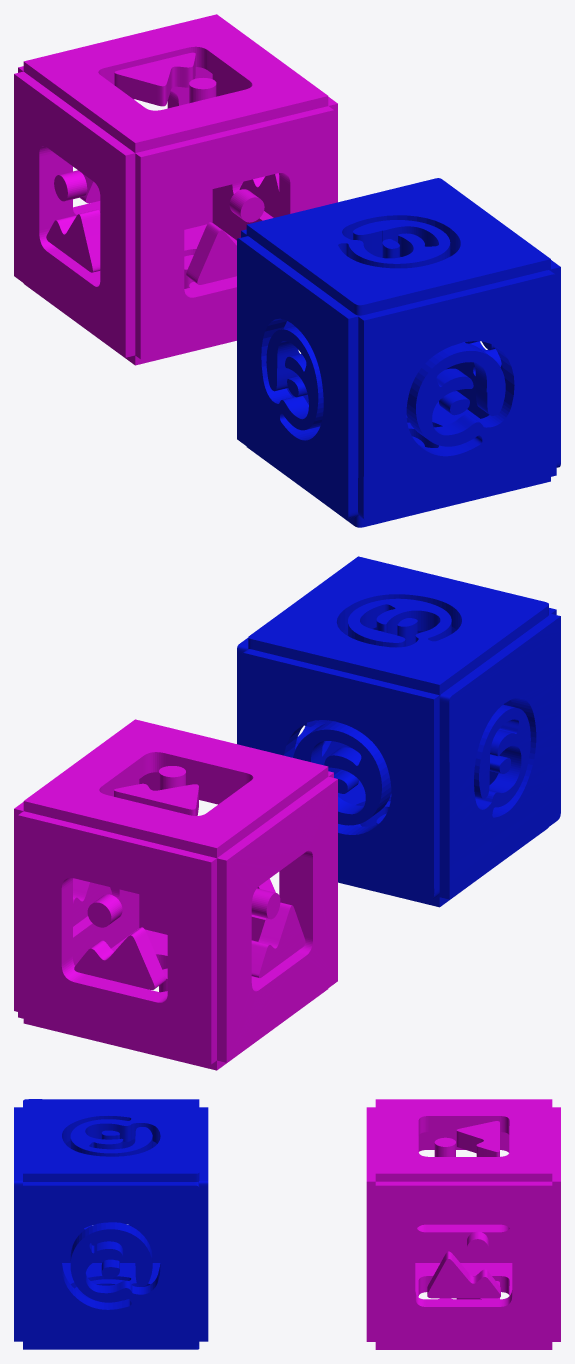
The model's file is cubelight.glb.
3 views of the same model, one above another, from view 1: azimuth 30°, elevation 25°; view 2: azimuth 150°, elevation 25°; view 3: azimuth 270°, elevation 25° (orthographic). The views are drawn at different scales.
Parts seen in each view (by area): view 1: mail, image; view 2: image, mail; view 3: mail, image.
Part boxes in pixels (x1,y1,x2,y2): mail: (237, 178, 560, 527); image: (14, 14, 337, 365); image: (14, 719, 337, 1070); mail: (237, 556, 560, 907); mail: (14, 1099, 208, 1349); image: (366, 1099, 560, 1349).
Size of what is drawn, in the model's own units: 2.2 by 2.2 by 6.2.
